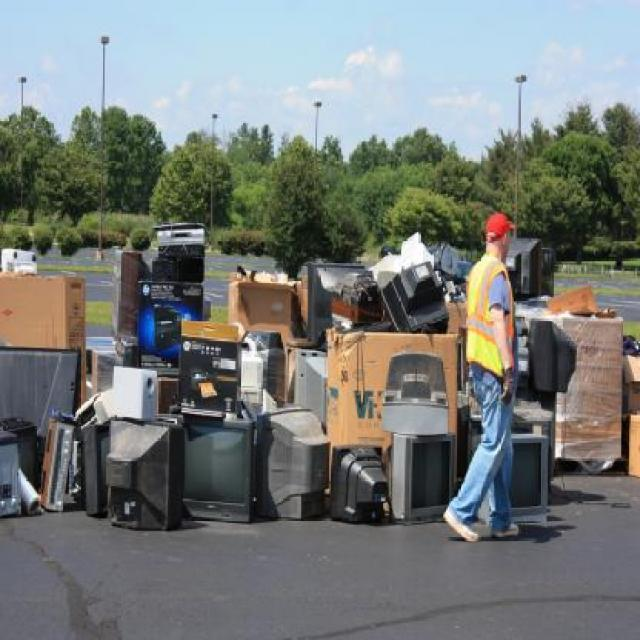garbage: (512, 242, 640, 471), (336, 269, 449, 514), (91, 343, 180, 534), (29, 257, 88, 511), (263, 314, 332, 525), (197, 311, 256, 522), (118, 245, 196, 351), (0, 291, 28, 514), (511, 438, 550, 520), (226, 265, 292, 308), (379, 243, 465, 270), (149, 221, 204, 244), (0, 245, 26, 289)
